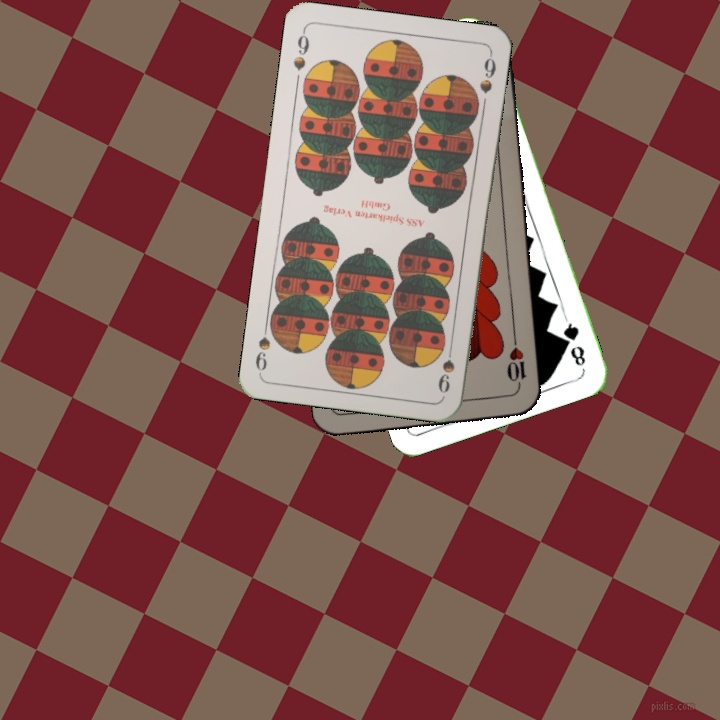G8: (559, 314, 588, 369)
H10: (502, 334, 529, 393)
S9: (434, 337, 457, 396), (289, 26, 312, 73)
